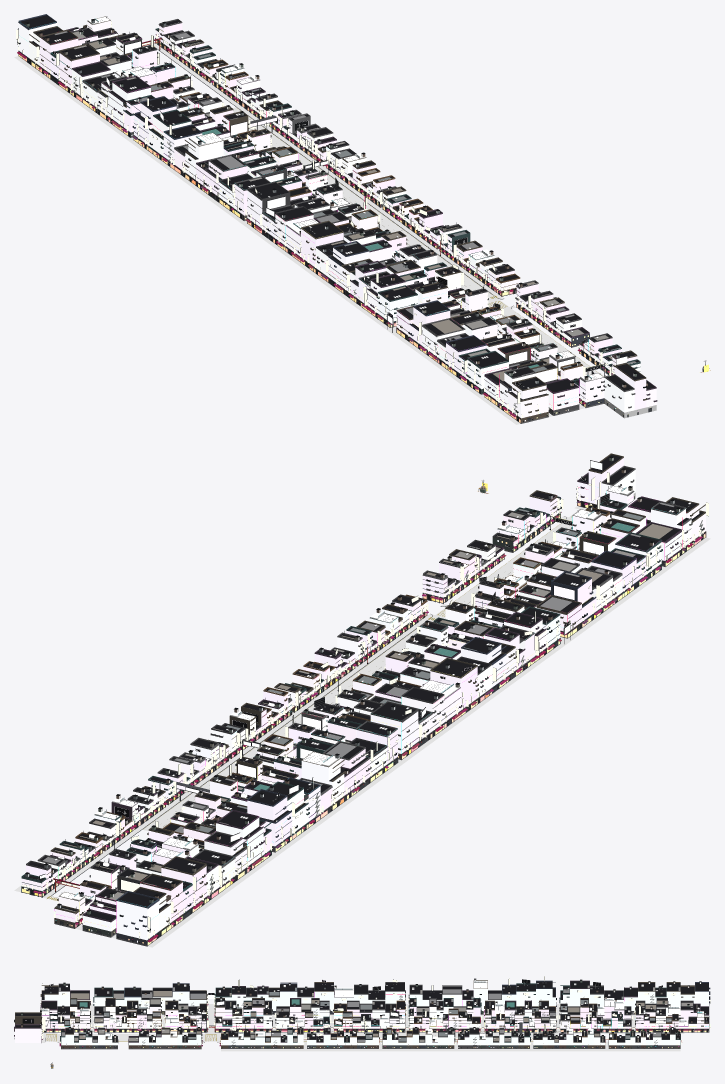
Rendered from world-high-japantown.glb.
3 views of the same model, one above another, from view 1: azimuth 30°, elevation 25°; view 2: azimuth 150°, elevation 25°; view 3: azimuth 270°, elevation 25° (orthographic). The views are drawn at different scales.
Visible parts, largest first — view 1: japantown_facade, japantown_trim_detail, japantown_roof, japantown_trim, japantown_sign, japantown_sidewalk, japantown_plaster, japantown_glow, japantown_asphalt, japantown_shop, japantown_dark_detail, japantown_awning_detail (+3 smaller); view 2: japantown_facade, japantown_trim, japantown_trim_detail, japantown_roof, japantown_sign, japantown_sidewalk, japantown_plaster, japantown_glow, japantown_asphalt, japantown_shop, japantown_dark_detail, japantown_awning_detail (+4 smaller); view 3: japantown_facade, japantown_roof, japantown_trim_detail, japantown_trim, japantown_plaster, japantown_sidewalk, japantown_glow, japantown_sign, japantown_dark_detail, japantown_asphalt, japantown_board_frame, japantown_shop (+8 smaller).
Boxes of the visible parts, x1,y1,x2,y2 form: japantown_facade: (18,20,656,418); japantown_trim_detail: (18,14,657,423); japantown_roof: (20,15,654,400); japantown_trim: (18,20,656,423); japantown_sign: (16,21,640,417); japantown_sidewalk: (14,43,585,424); japantown_plaster: (25,20,647,422); japantown_glow: (54,16,634,421); japantown_asphalt: (232,107,603,376); japantown_shop: (18,41,609,422); japantown_dark_detail: (25,19,648,384); japantown_awning_detail: (17,38,612,416); japantown_facade: (21,458,705,940); japantown_trim: (21,456,705,945); japantown_trim_detail: (21,453,706,946); japantown_roof: (24,455,703,920); japantown_sign: (21,472,708,938); japantown_sidewalk: (14,506,710,947); japantown_plaster: (25,457,680,944); japantown_glow: (28,458,679,942); japantown_asphalt: (142,509,579,831); japantown_shop: (22,502,705,945); japantown_dark_detail: (25,456,680,911); japantown_awning_detail: (33,501,702,942); japantown_facade: (15,989,708,1045); japantown_roof: (15,981,708,1041); japantown_trim_detail: (14,980,710,1049); japantown_trim: (15,985,709,1048); japantown_plaster: (21,980,707,1048); japantown_sidewalk: (41,1004,684,1051); japantown_glow: (25,979,705,1047); japantown_sign: (40,976,710,1045); japantown_dark_detail: (21,978,707,1039); japantown_asphalt: (45,1034,558,1042); japantown_board_frame: (22,979,699,1044); japantown_shop: (43,1012,706,1048).
Size of the model in its own units: 175 by 39.87 by 785.
